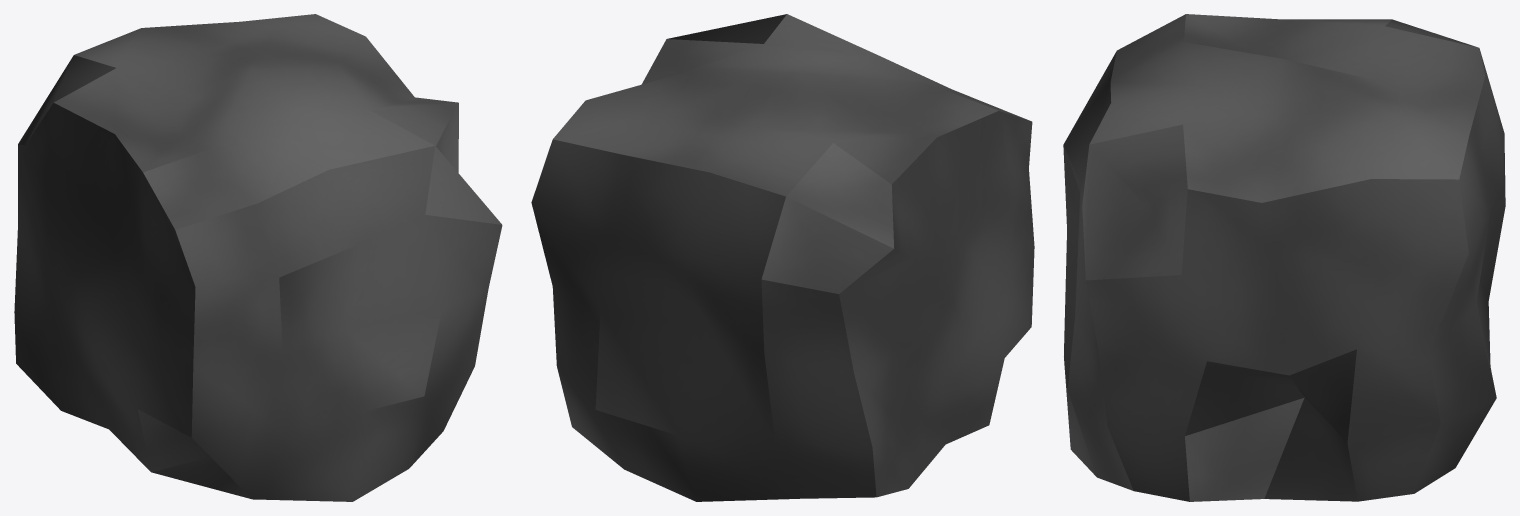
Rendered from GAMEJAMPUFFER - ForeGround Rock 1.fbx.
3 views of the same model, side by side, from view 1: azimuth 30°, elevation 25°; view 2: azimuth 150°, elevation 25°; view 3: azimuth 270°, elevation 25° (orthographic). The views are drawn at different scales.
Visible parts, largest first — view 1: Cube.004; view 2: Cube.004; view 3: Cube.004.
Part boxes in pixels (x1,y1,x2,y2): Cube.004: [14, 14, 502, 501]; Cube.004: [531, 14, 1034, 501]; Cube.004: [1063, 14, 1505, 501].
Bounding box in the file's own units: 184 × 193 × 194.
1 material, 1 textured.
